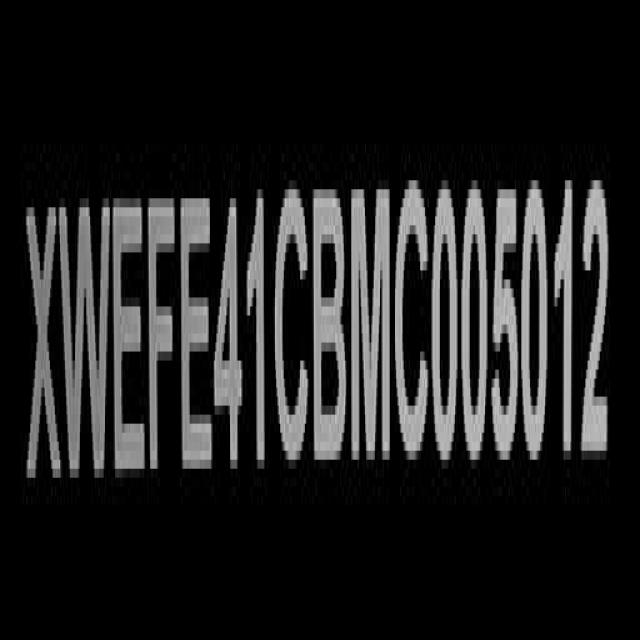0: (432, 175, 461, 468), (522, 174, 550, 464), (463, 178, 490, 468)
1: (246, 180, 270, 481), (556, 175, 578, 470)
2: (584, 178, 612, 468)
4: (213, 176, 244, 488)
5: (493, 173, 520, 465)
B: (314, 176, 348, 472)
C: (273, 178, 310, 479), (396, 177, 432, 470)
E: (112, 185, 147, 496), (181, 188, 213, 495)
F: (145, 184, 177, 478)
M: (351, 174, 394, 468)
W: (61, 184, 111, 494)
X: (26, 194, 61, 503)
